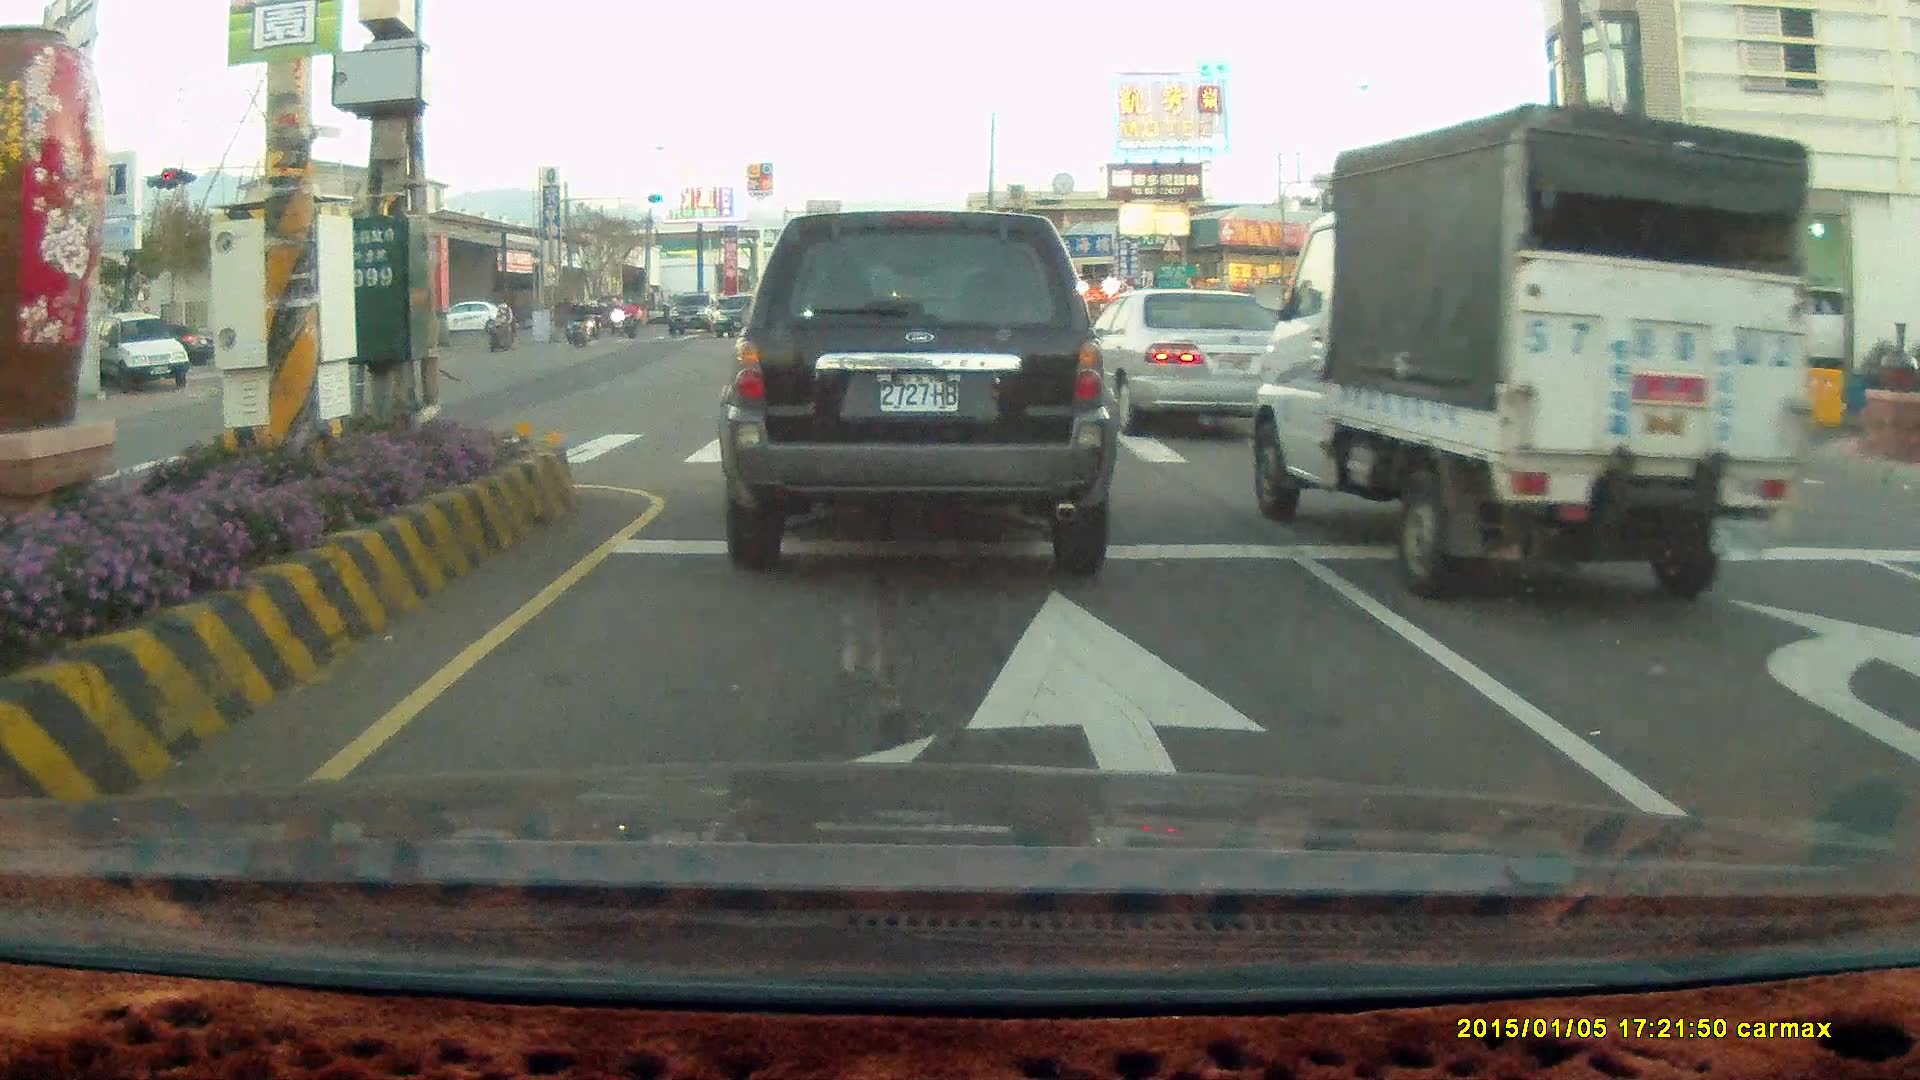rider: (485, 299, 519, 348), (564, 295, 592, 348), (619, 296, 641, 339)
vehicle: (1249, 98, 1809, 600), (713, 207, 1120, 575), (1075, 282, 1316, 435), (1084, 286, 1309, 444), (1687, 283, 1905, 379), (1705, 286, 1862, 373), (85, 313, 192, 390), (447, 300, 515, 338)
